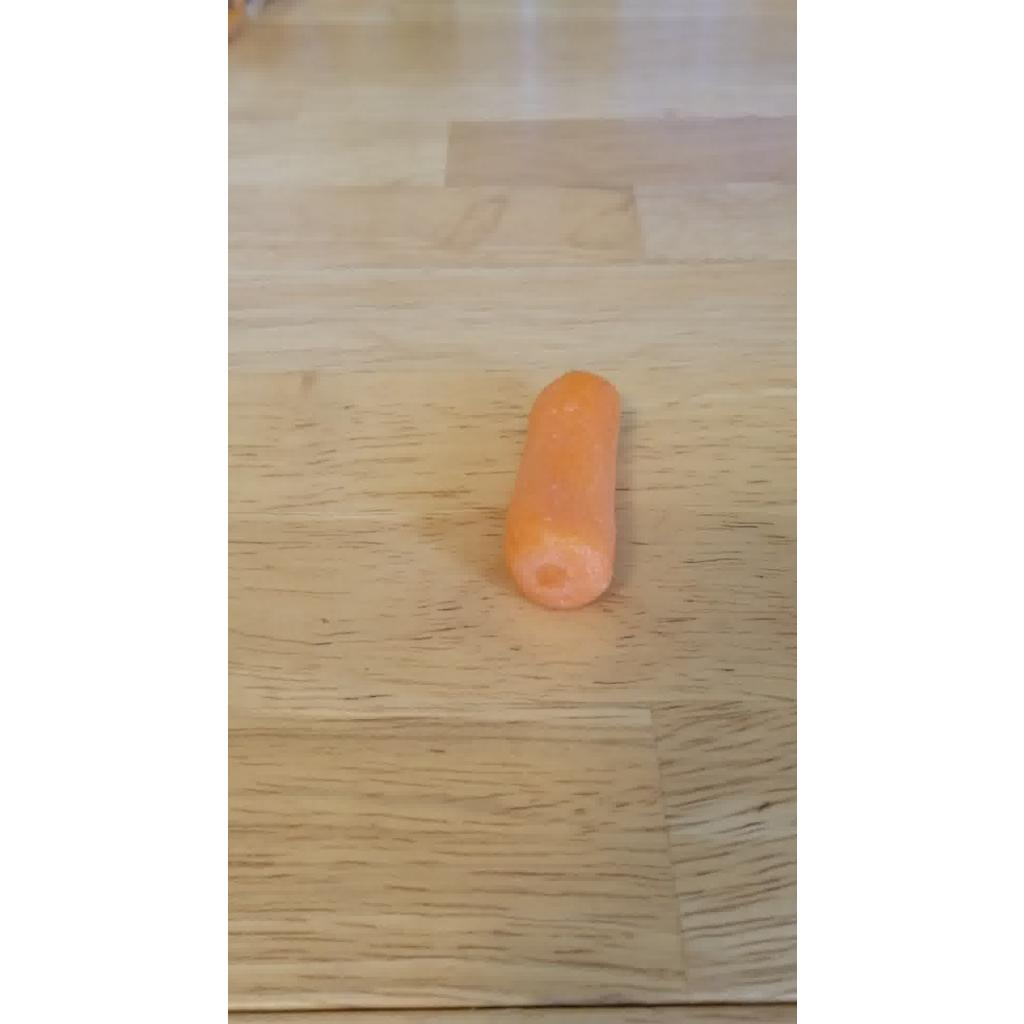carrot: (505, 372, 619, 608)
